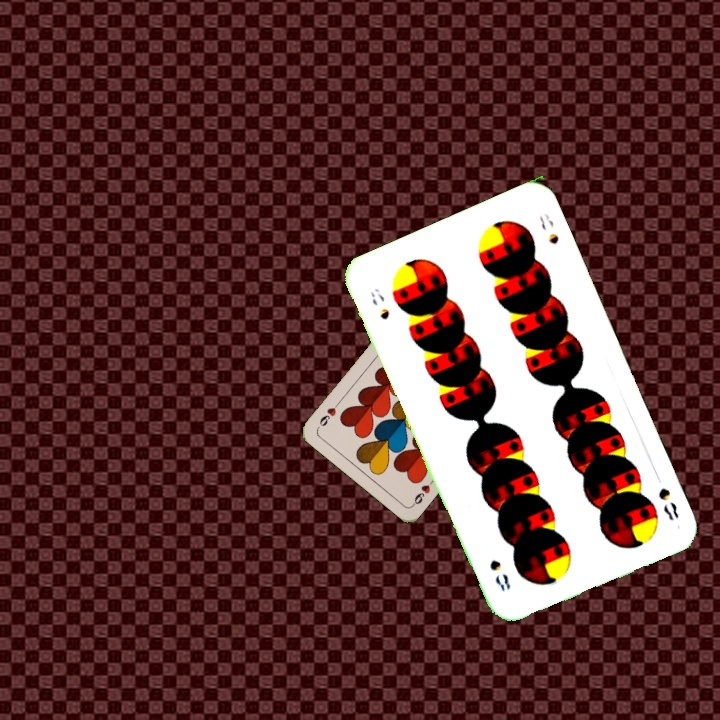H9: (408, 474, 438, 508)
S8: (654, 483, 682, 524), (366, 284, 392, 323)
